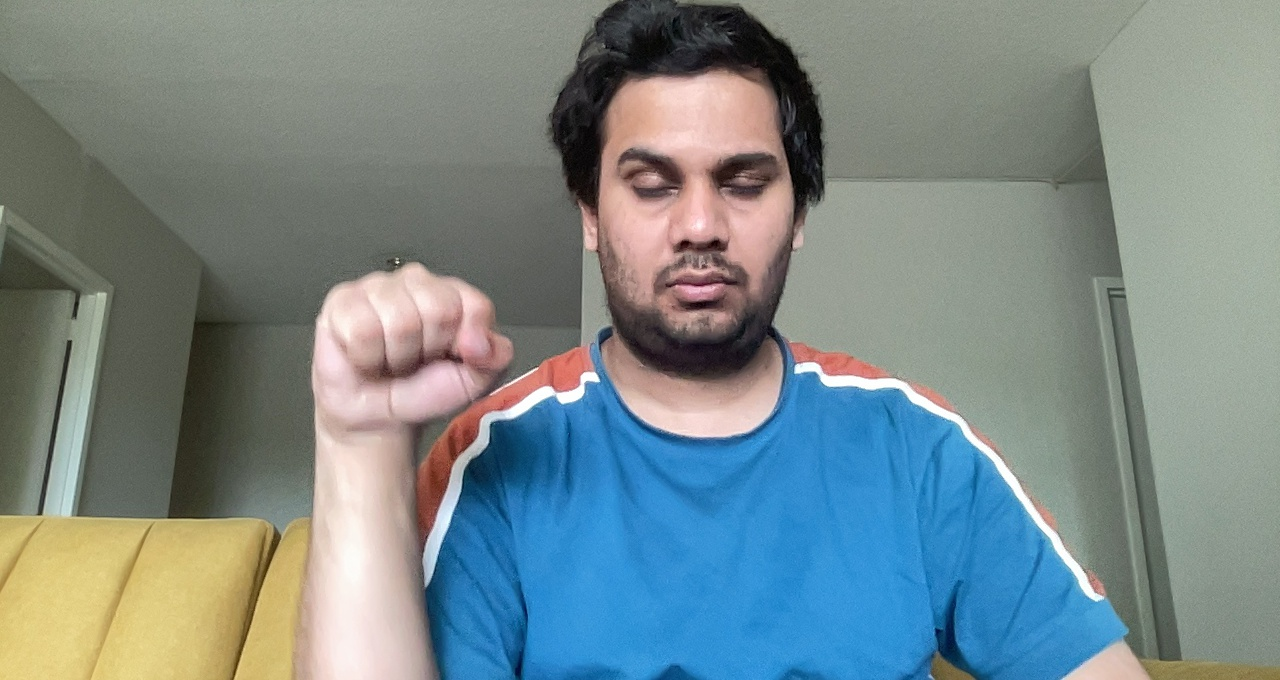closedfist: (300, 259, 520, 446)
